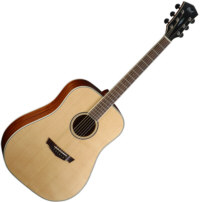guitar: (1, 2, 198, 202)
